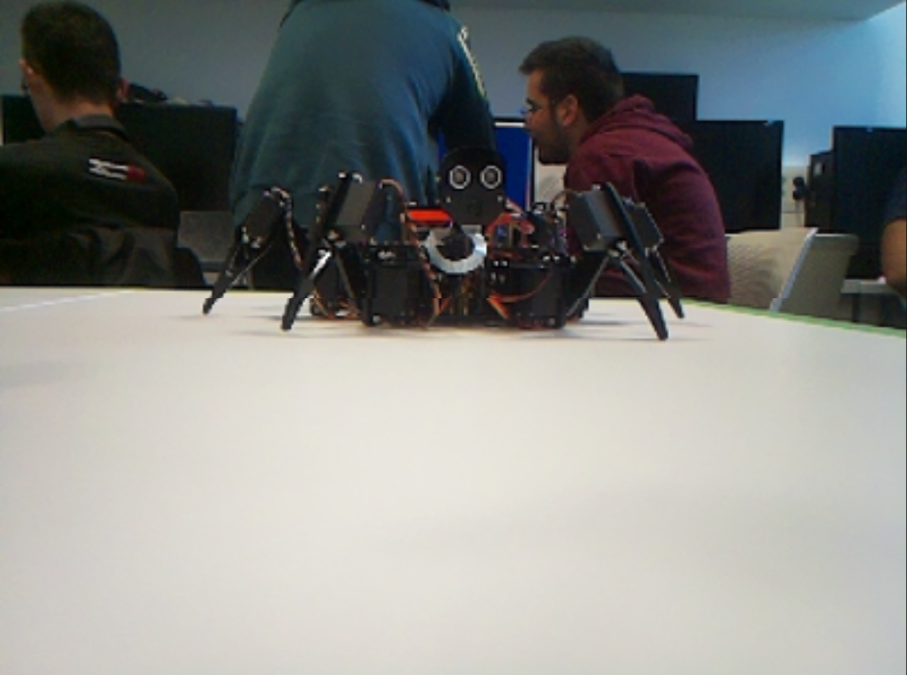hexapodo_ajeno: (198, 143, 693, 344)
